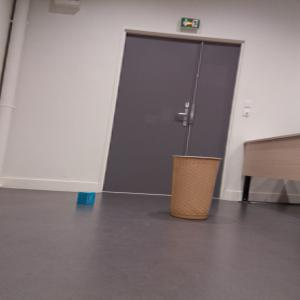medium: (169, 155, 218, 219)
small: (76, 191, 96, 205)
